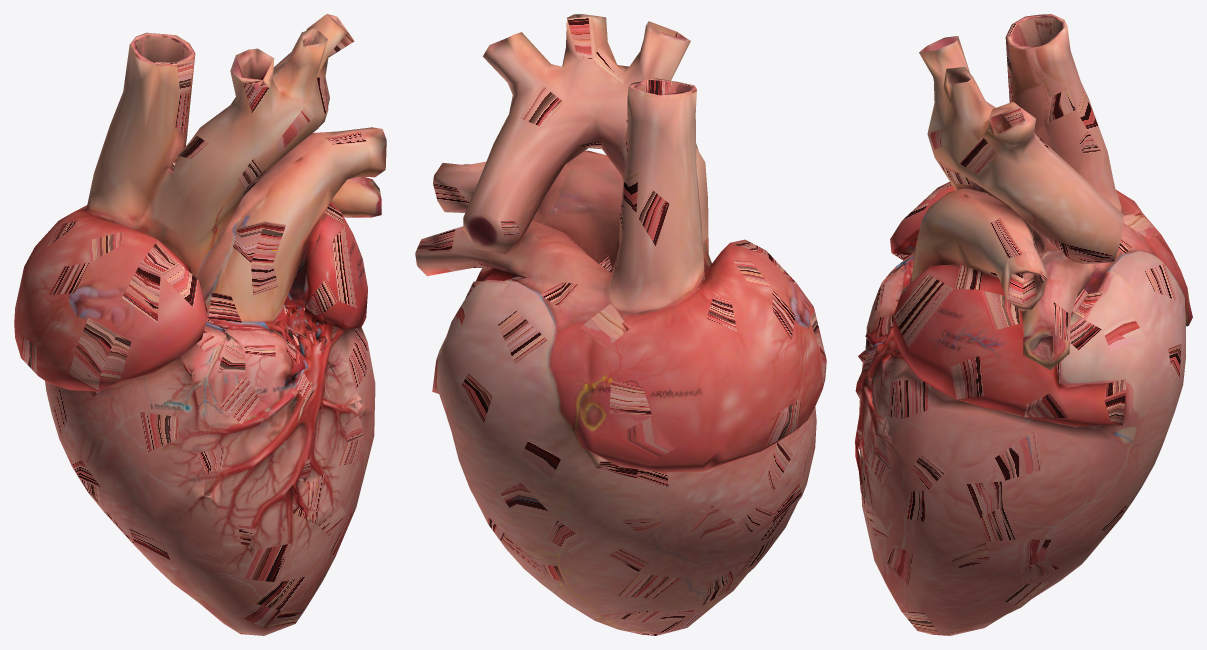
File: Heart4.glb
3 renders of one model, left to right at view 1: azimuth 30°, elevation 25°; view 2: azimuth 150°, elevation 25°; view 3: azimuth 270°, elevation 25°, orthographic. The views are drawn at different scales.
Visible parts, largest first — view 1: Heart4; view 2: Heart4; view 3: Heart4.
Boxes of the visible parts, box(x1,y1,x2,y2) form: Heart4: box(14, 14, 386, 635); Heart4: box(415, 14, 826, 635); Heart4: box(855, 14, 1192, 635).
Bounding box in the file's own units: 1.27 × 2 × 1.04.
Materials: 1 (1 with a texture image).
